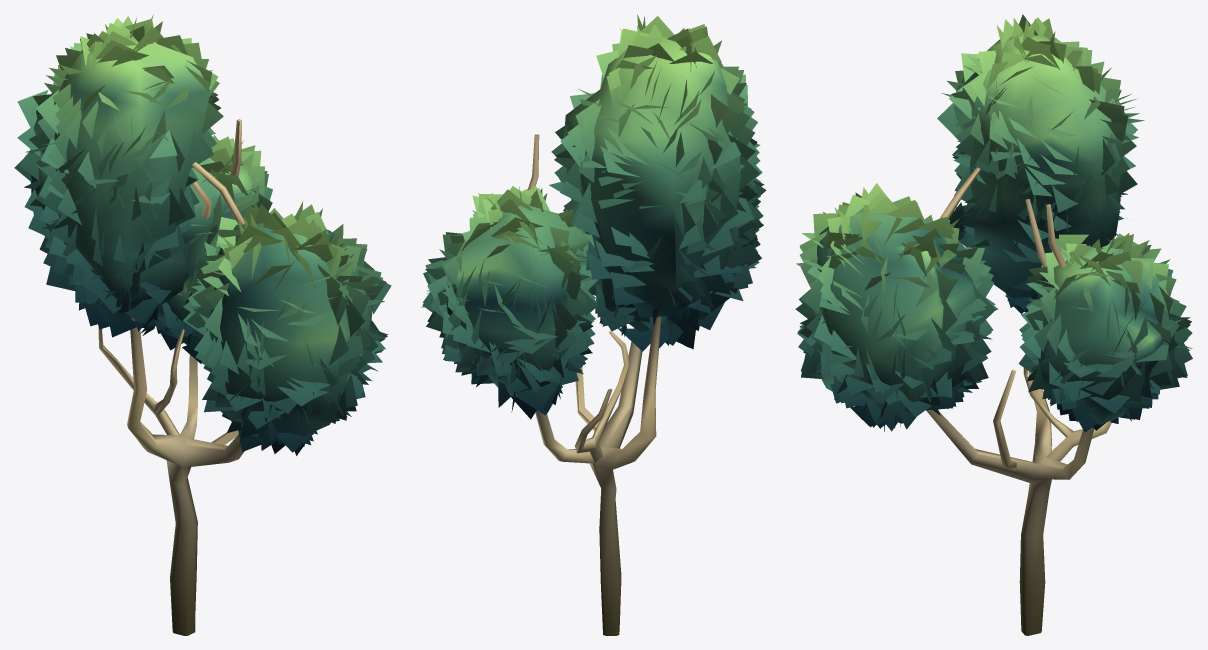
The model's file is Forest_Tree_1D.fbx.
The picture shows the model from 3 angles, left to right: view 1: azimuth 30°, elevation 25°; view 2: azimuth 150°, elevation 25°; view 3: azimuth 270°, elevation 25°; orthographic projection. The views are drawn at different scales.
Parts seen in each view (by area): view 1: Forest_Tree_1D; view 2: Forest_Tree_1D; view 3: Forest_Tree_1D.
Boxes of the visible parts, x1,y1,x2,y2 form: Forest_Tree_1D: (14, 15, 391, 635); Forest_Tree_1D: (421, 14, 766, 635); Forest_Tree_1D: (795, 14, 1192, 635).
Size of the model in its own units: 338 by 714 by 445.
